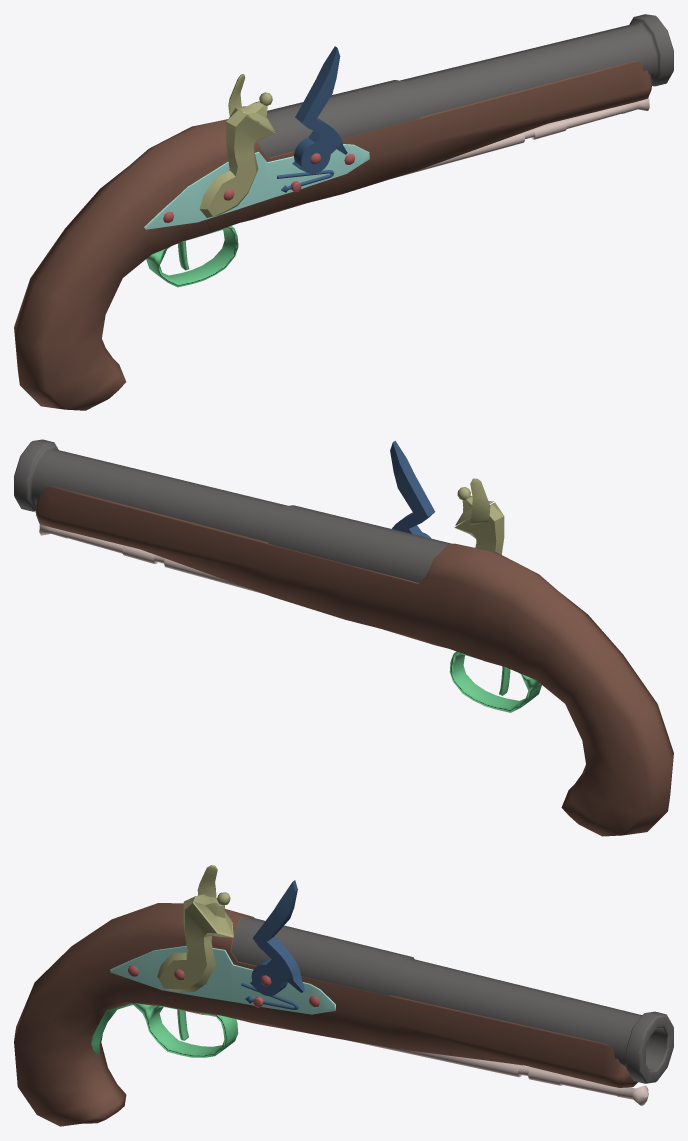
The model's file is gun_model.fbx.
3 renders of one model, top to bottom at view 1: azimuth 30°, elevation 25°; view 2: azimuth 150°, elevation 25°; view 3: azimuth 330°, elevation 25°, orthographic.
Visible parts, largest first — view 1: pCylinder14, pCylinder5, pCube2, pCylinder7, pCylinder8, pCube5, pCylinder12; view 2: pCylinder14, pCylinder5, pCylinder7, pCube5, pCylinder8, pCylinder12; view 3: pCylinder14, pCylinder5, pCylinder7, pCube2, pCylinder8, pCube5, pCylinder12, pCube4.
Part boxes in pixels (x1,y1,x2,y2): pCylinder14: [14, 61, 652, 410]; pCylinder5: [258, 14, 673, 157]; pCube2: [144, 144, 369, 229]; pCylinder7: [199, 74, 275, 217]; pCylinder8: [277, 46, 347, 192]; pCube5: [146, 226, 238, 287]; pCylinder12: [393, 98, 649, 178]; pCylinder14: [35, 486, 673, 836]; pCylinder5: [14, 439, 452, 582]; pCylinder7: [454, 478, 504, 554]; pCube5: [449, 651, 541, 712]; pCylinder8: [390, 440, 435, 538]; pCylinder12: [39, 524, 265, 594]; pCylinder14: [14, 903, 637, 1126]; pCylinder5: [231, 918, 673, 1083]; pCylinder7: [157, 865, 233, 992]; pCube2: [110, 946, 335, 1014]; pCylinder8: [241, 880, 305, 1009]; pCube5: [91, 1003, 238, 1057]; pCylinder12: [347, 1040, 648, 1105]; pCube4: [128, 965, 319, 1007].
Bounding box in the file's own units: 32.09 × 15.08 × 3.99.
